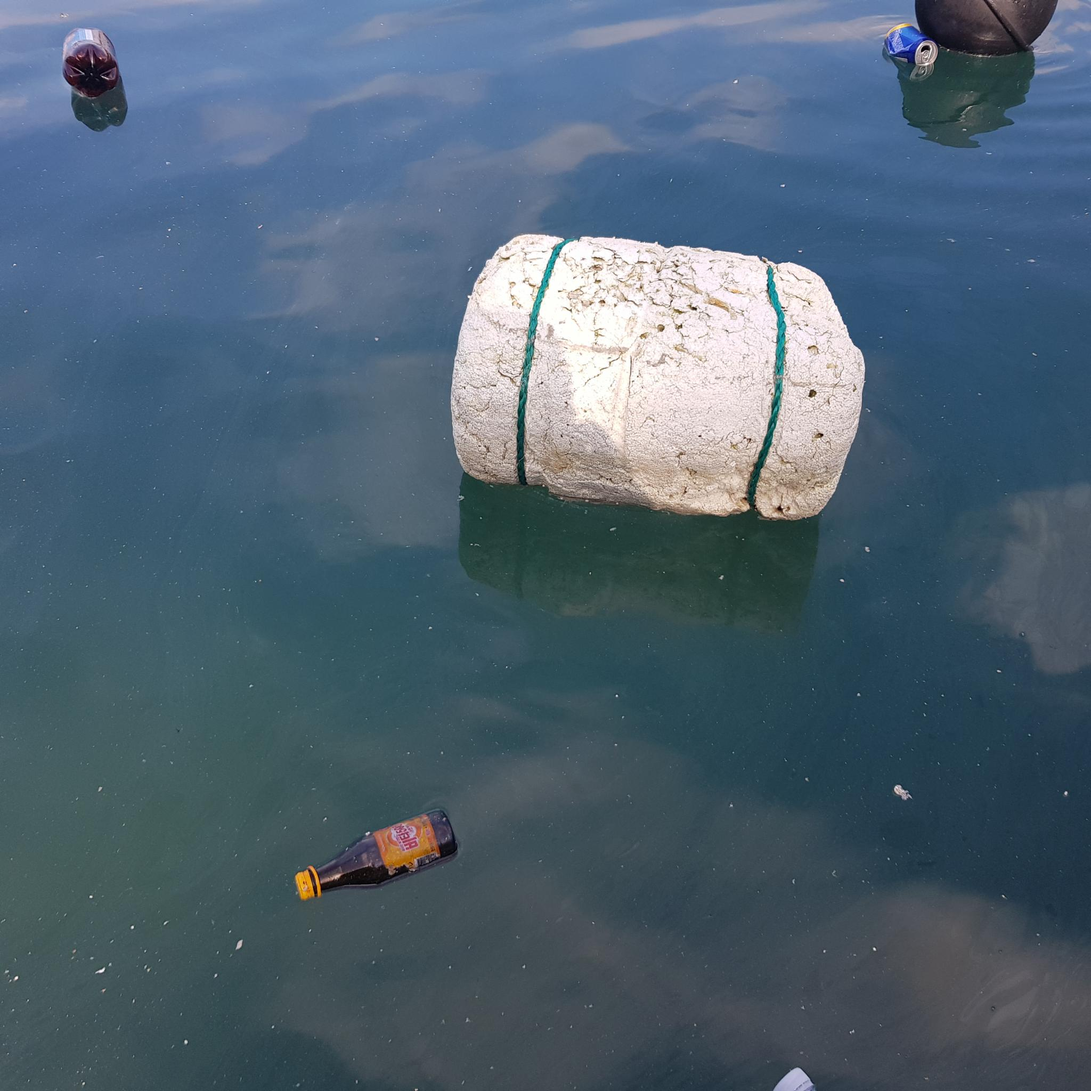sampah_terapung: (451, 233, 867, 522), (295, 809, 458, 901), (915, 1, 1059, 57), (63, 28, 119, 99), (884, 22, 939, 67), (771, 1067, 820, 1091)
